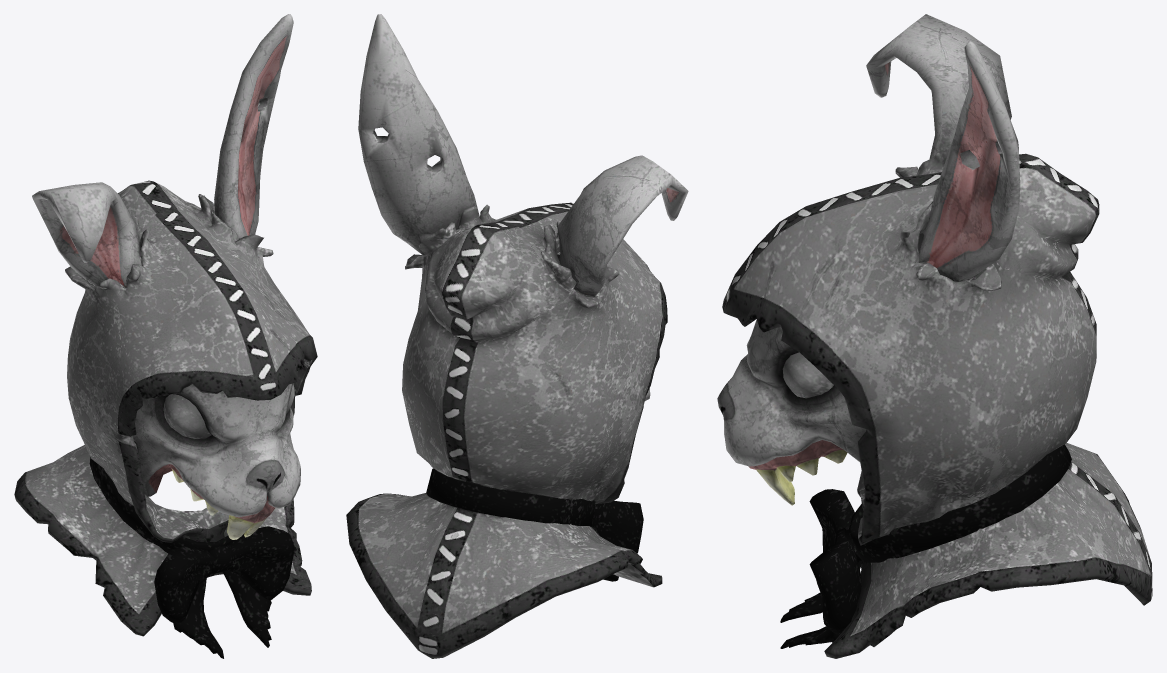
The model's file is SurvivorMale_Head_Mask_BunnyBlue_LOD0.glb.
3 views of the same model, side by side, from view 1: azimuth 30°, elevation 25°; view 2: azimuth 150°, elevation 25°; view 3: azimuth 270°, elevation 25° (orthographic). The views are drawn at different scales.
Parts seen in each view (by area): view 1: Hoodie; view 2: Hoodie; view 3: Hoodie.
Part boxes in pixels (x1,y1,x2,y2): Hoodie: [14, 14, 317, 658]; Hoodie: [346, 14, 688, 658]; Hoodie: [717, 14, 1152, 658].
Size of the model in its own units: 0.2847 by 0.568 by 0.3365.
Materials: 1 (1 with a texture image).
